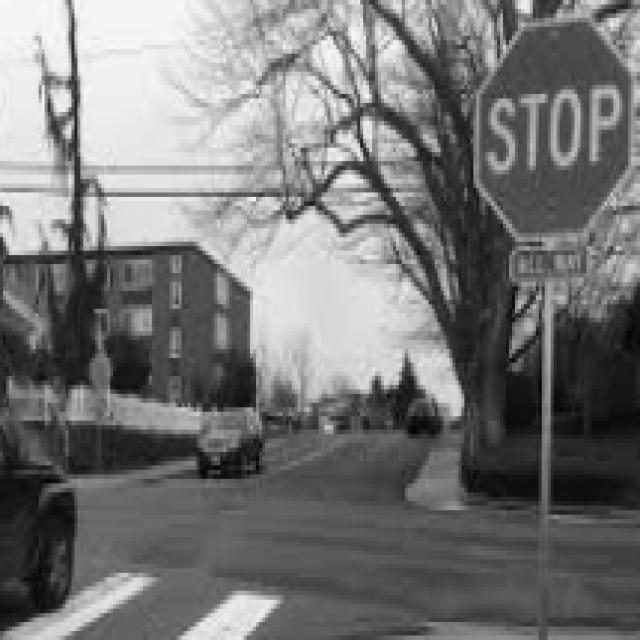Stop-signs: (477, 14, 633, 242)
